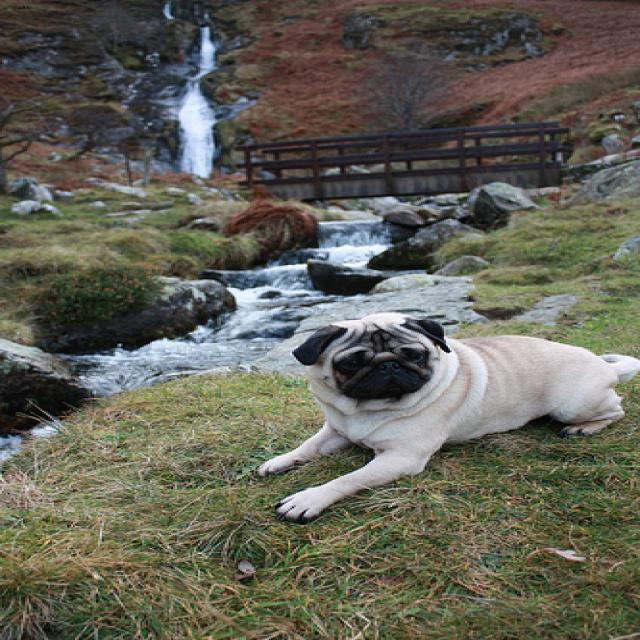dog-pug: (244, 307, 636, 531)
